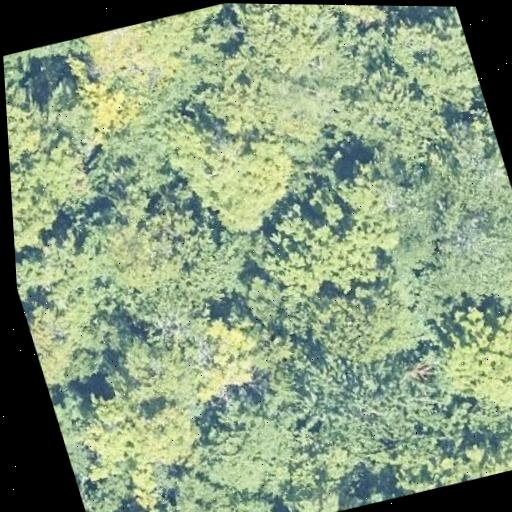tree-top: (388, 120, 512, 307), (71, 177, 231, 318), (287, 345, 459, 476), (240, 176, 407, 309), (107, 300, 275, 423), (172, 109, 312, 242), (307, 270, 449, 381), (186, 379, 313, 503), (76, 379, 214, 493), (335, 67, 455, 177), (418, 189, 512, 317), (383, 6, 485, 120), (423, 300, 512, 426), (20, 282, 118, 393), (140, 2, 245, 86), (370, 427, 487, 501), (237, 4, 341, 83), (158, 460, 263, 512), (4, 74, 56, 177), (48, 385, 101, 483), (268, 469, 363, 512), (303, 4, 452, 31), (483, 376, 512, 472), (3, 48, 44, 96), (86, 497, 190, 512)
